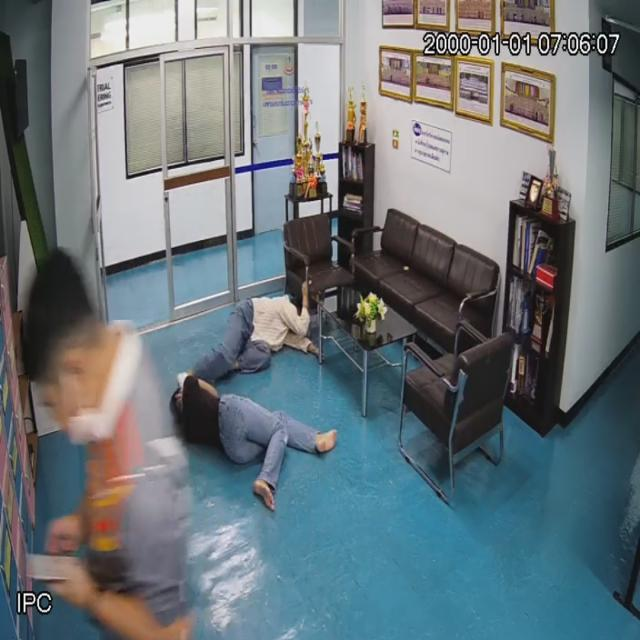fall: (168, 370, 337, 519), (201, 281, 325, 391)
